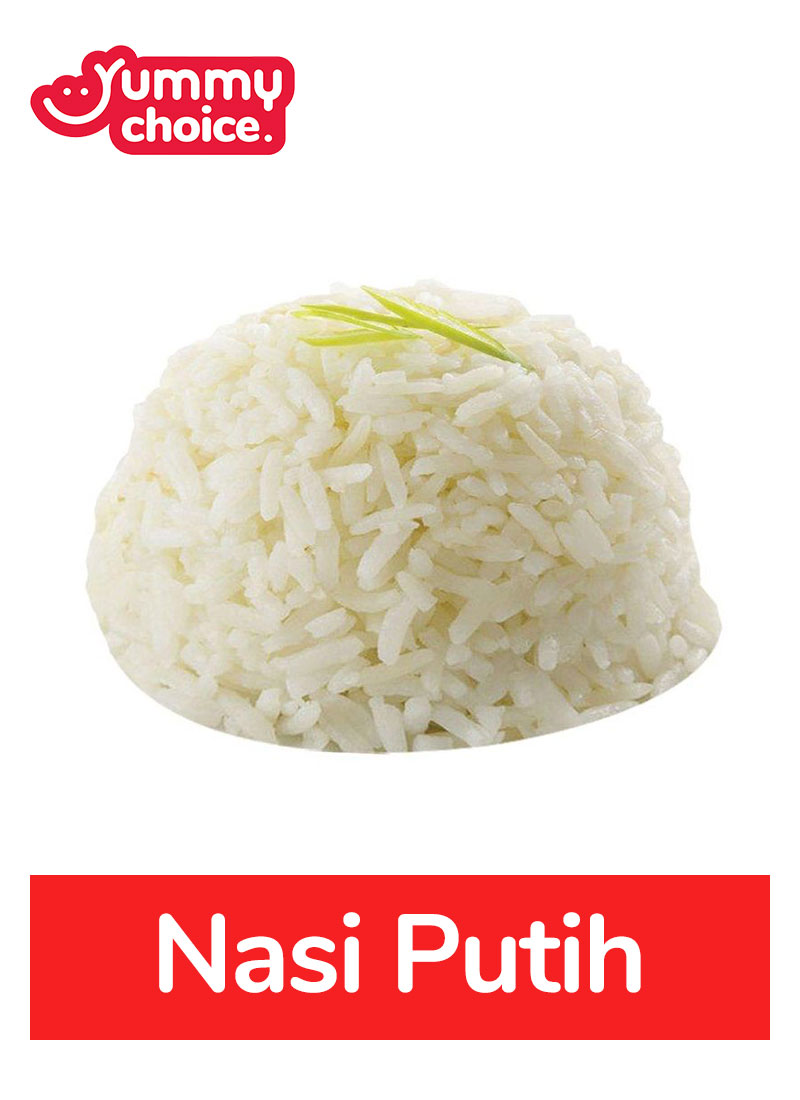Nasi Putih: (57, 275, 680, 786)
